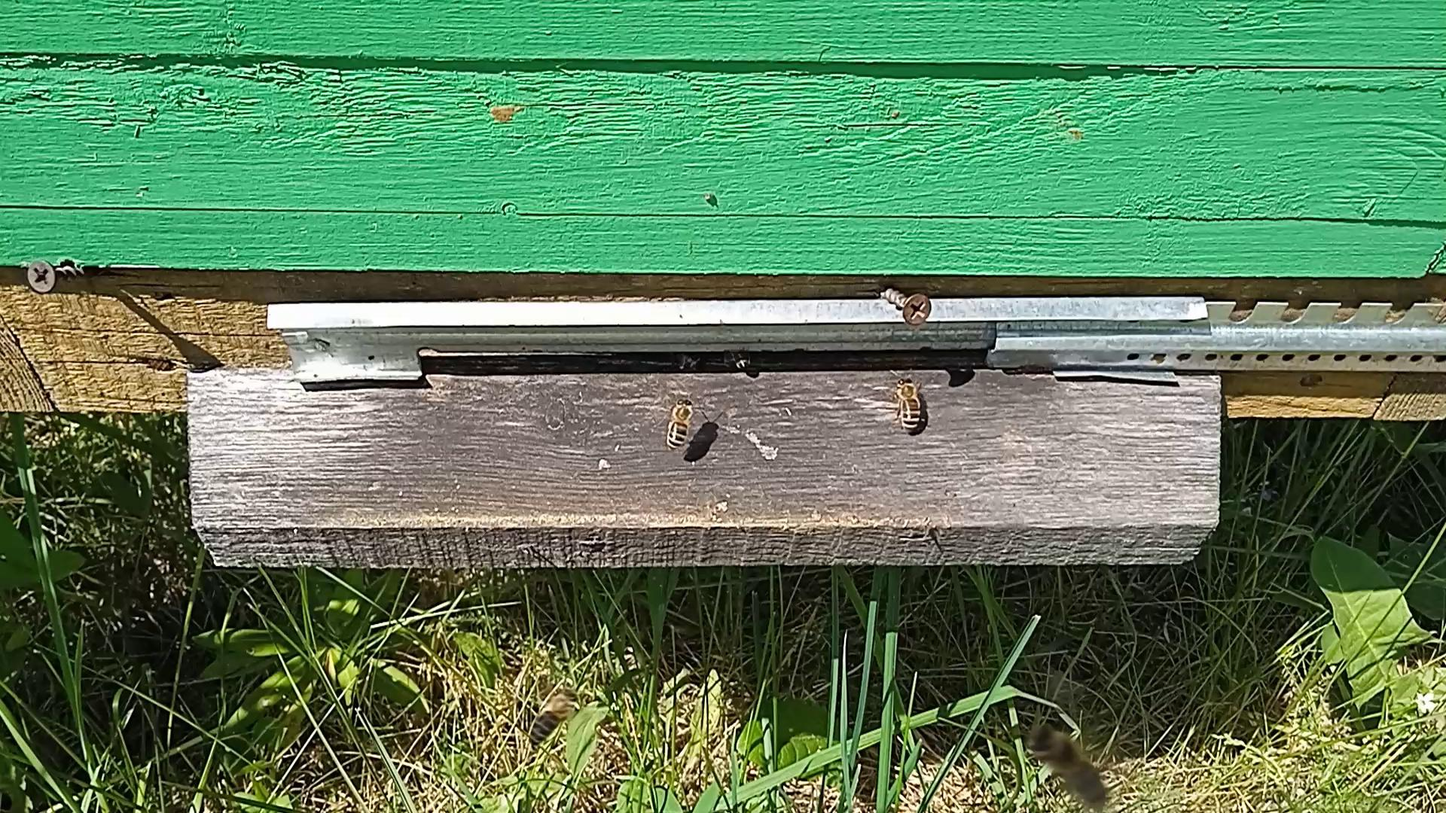worker-bee: (1025, 722, 1109, 811), (528, 686, 578, 746), (894, 376, 924, 434), (665, 397, 696, 450), (724, 350, 753, 371), (674, 353, 703, 372)
